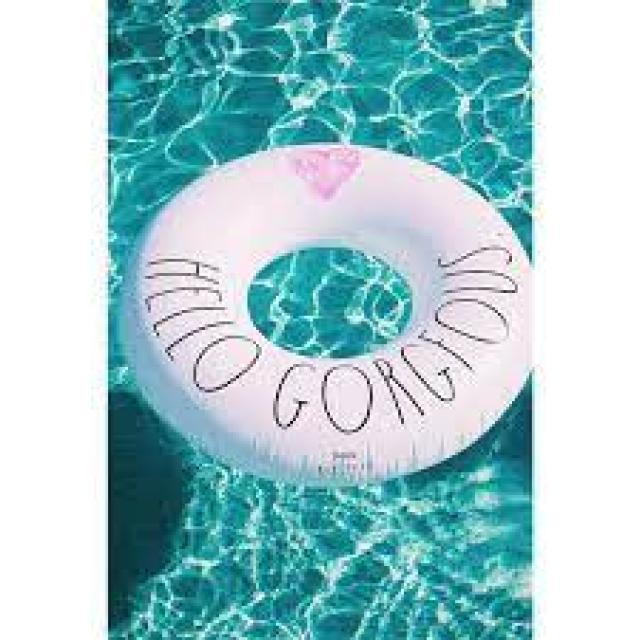lifesaver: (137, 143, 538, 481)
